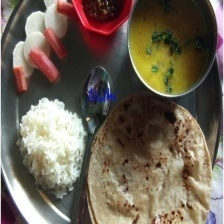rice: (14, 95, 89, 201)
